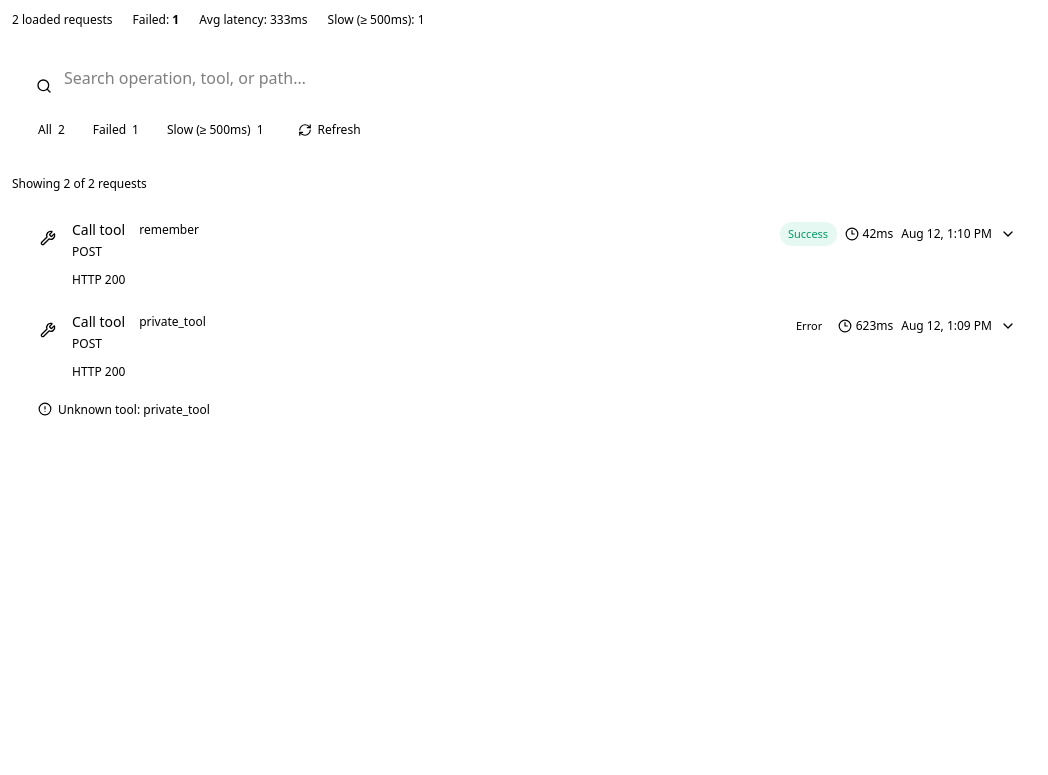
Scenario: McpRequestLogs › keeps raw transport details behind an expandable row
Check: the text "/mcp/memory/rpc#tools/call:remember" is not shown
What coordinates should you click on to do the following:
click the button "Call tool remember POST Success 42ms Aug 12, 1:10 PM"
I would click on:
 (99, 230)
Its box is left=12, top=208, right=1036, bottom=272.
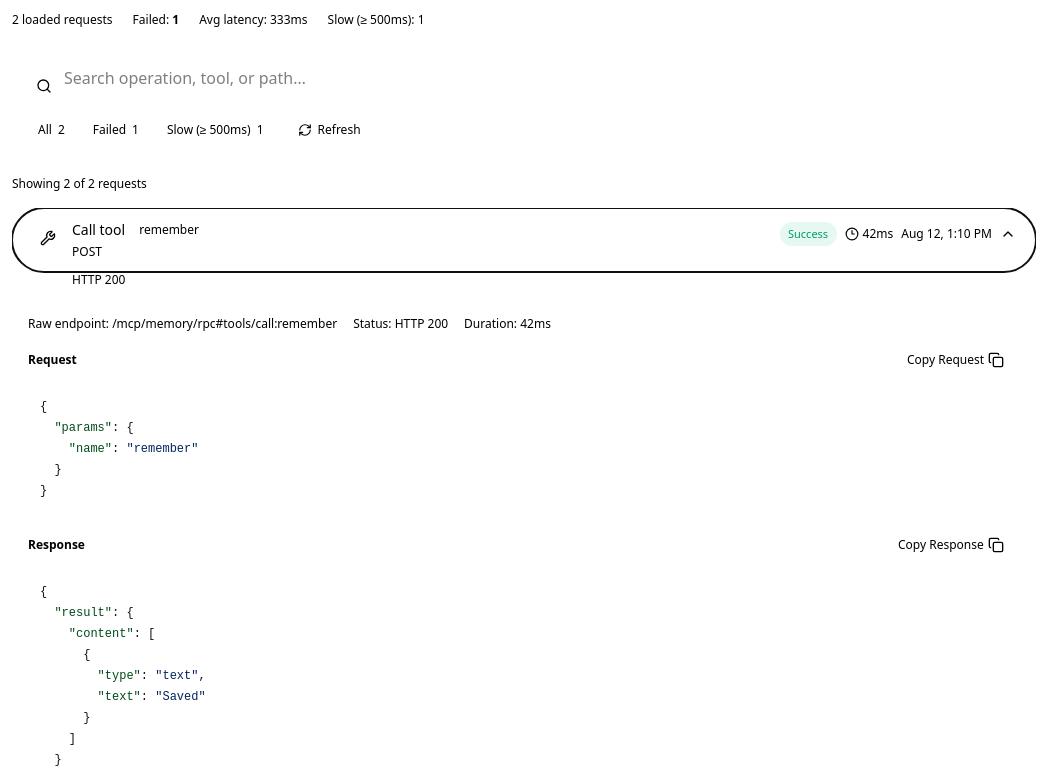
Check: the text "/mcp/memory/rpc#tools/call:remember" is shown, box left=112, top=315, right=337, bottom=332
Check: the text "Raw endpoint:" is shown, box left=28, top=315, right=109, bottom=332
